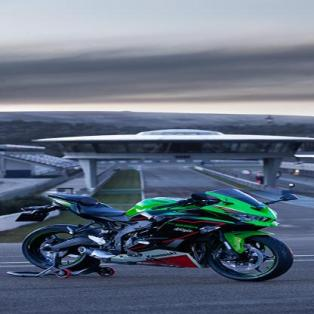Motocicleta: (10, 185, 306, 287)
